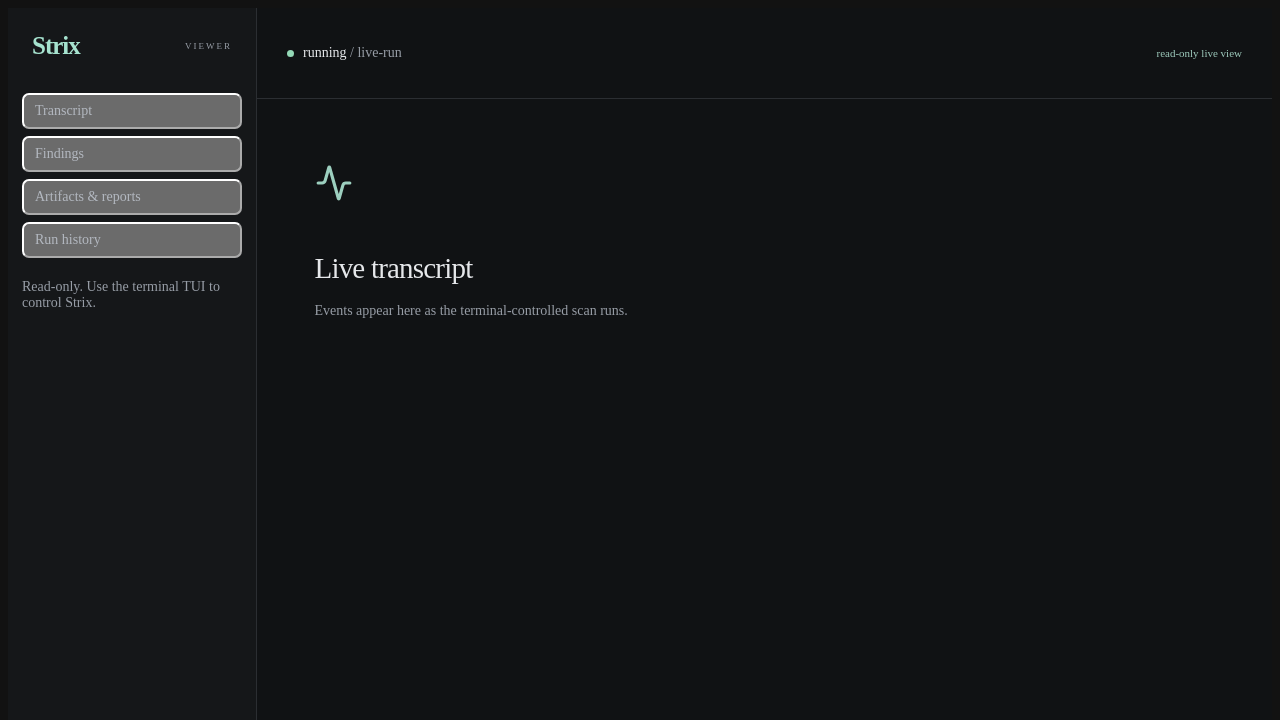
Scenario: artifact and report navigation remains available through GET downloads
Click the button "Artifacts & reports" at (132, 197), box [22,179,242,215]
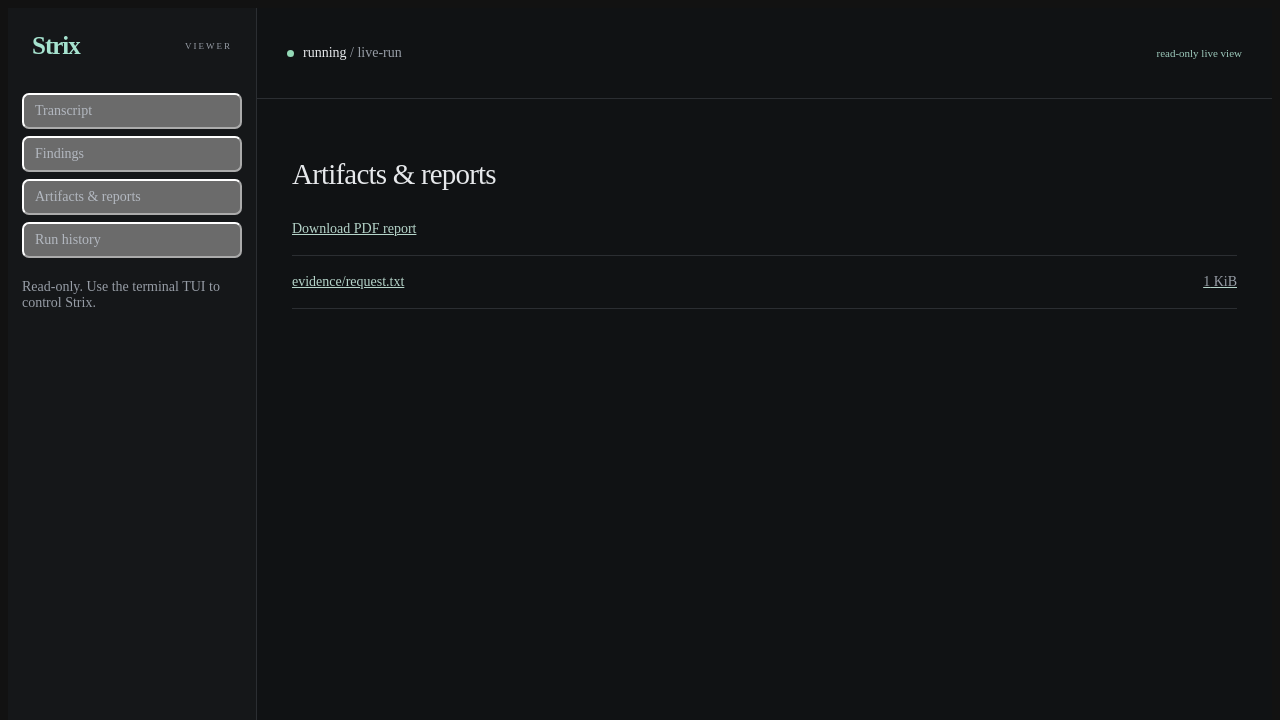
Check: the link "evidence/request.txt 1 KiB" is shown, box [292,256,1237,309]
